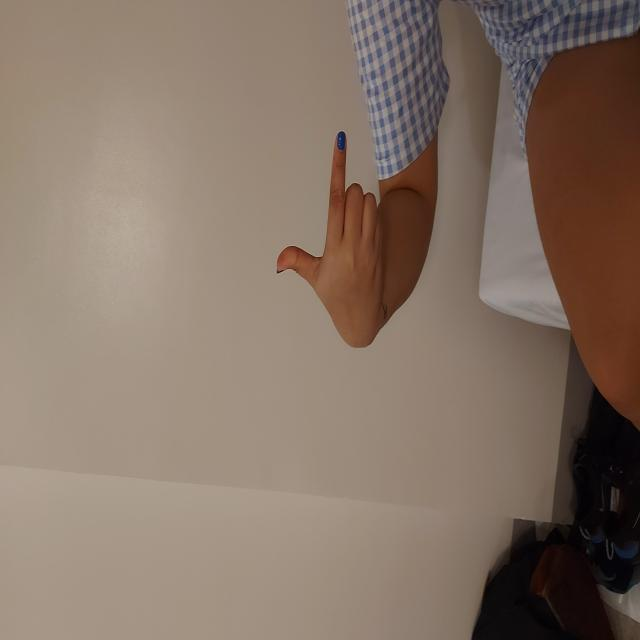G: (293, 275, 511, 382)
